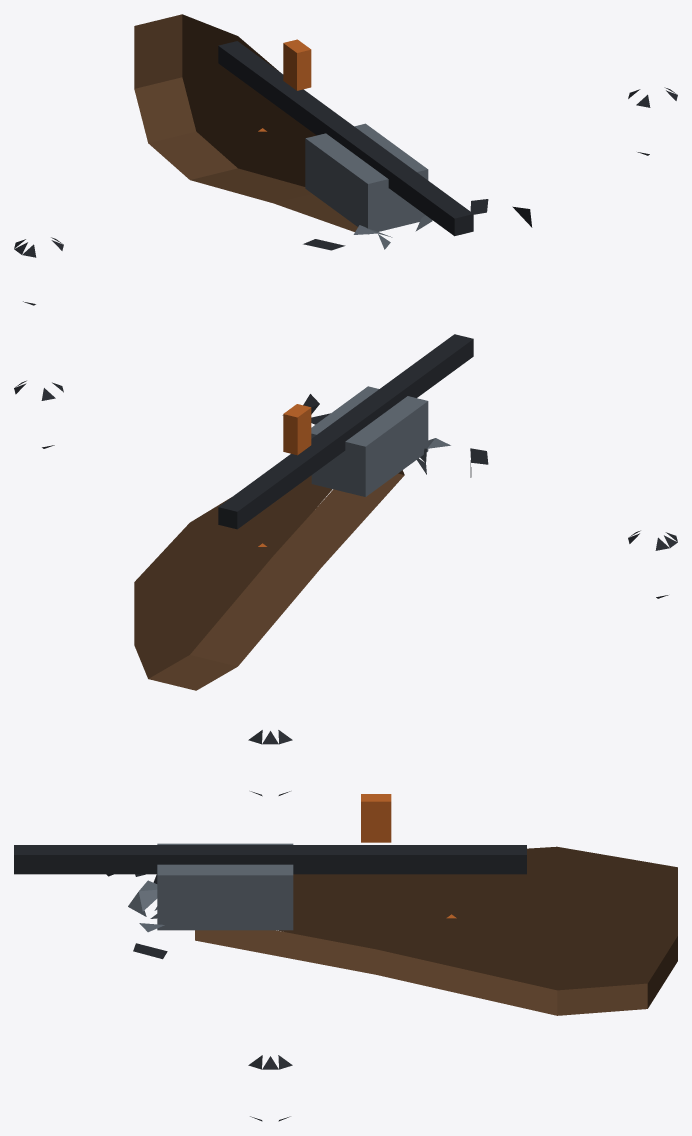
The model's file is bowcaster.lod.glb.
3 renders of one model, top to bottom at view 1: azimuth 30°, elevation 25°; view 2: azimuth 150°, elevation 25°; view 3: azimuth 270°, elevation 25°, orthographic. The views are drawn at different scales.
Parts seen in each view (by area): view 1: m; view 2: m; view 3: m.
Boxes of the visible parts, bbox=[...] form: m: bbox=[14, 14, 677, 305]; m: bbox=[14, 334, 677, 690]; m: bbox=[14, 730, 677, 1121].
Size of the model in its own units: 0.7679 by 0.2114 by 0.62.
